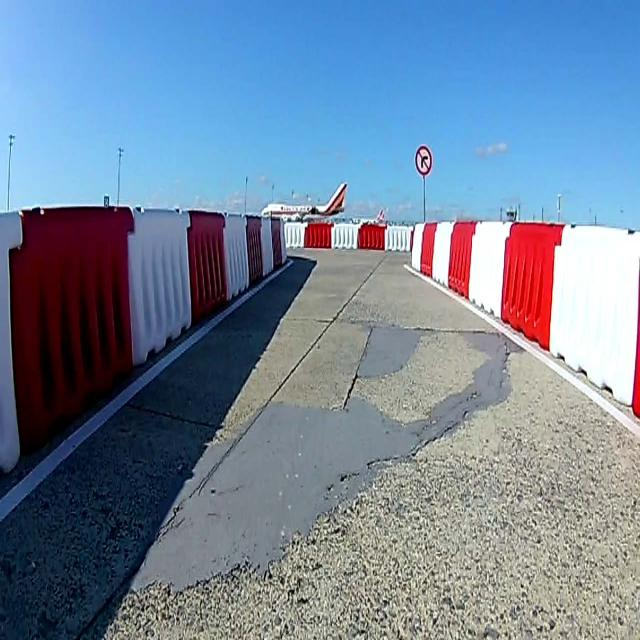sagadonulmez: (415, 146, 433, 176)
